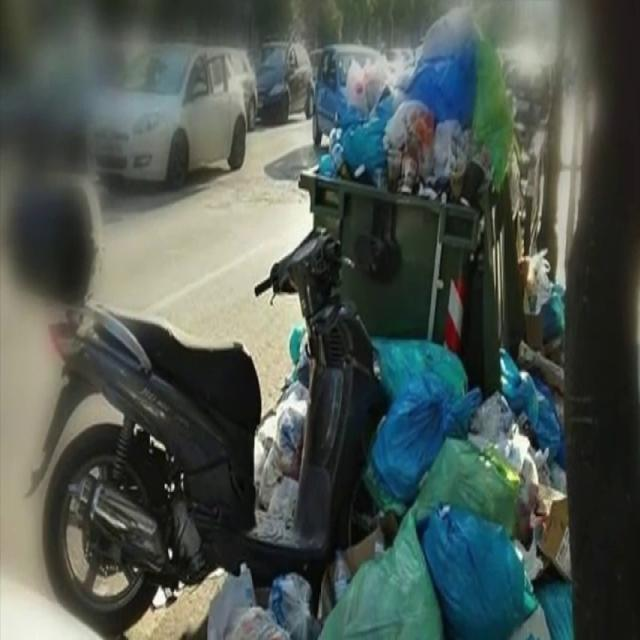garbage: (246, 295, 569, 637), (312, 13, 536, 231)
